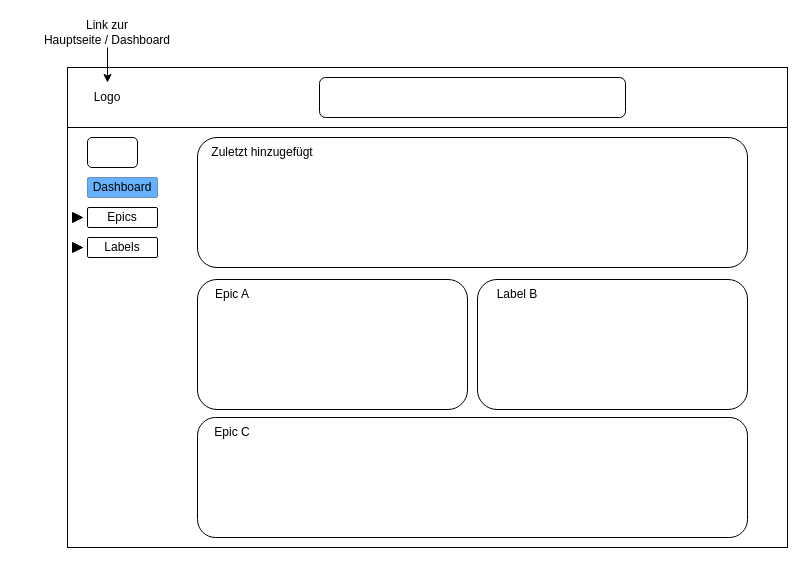
Some shapes in this 805 by 565 pixel diagram are drawn without their labels. The box of each missing label's shape, as (x1, y1, x2, y2) in pixels:
+ Neu: (86, 136, 138, 168)
Suche: (318, 76, 626, 118)
